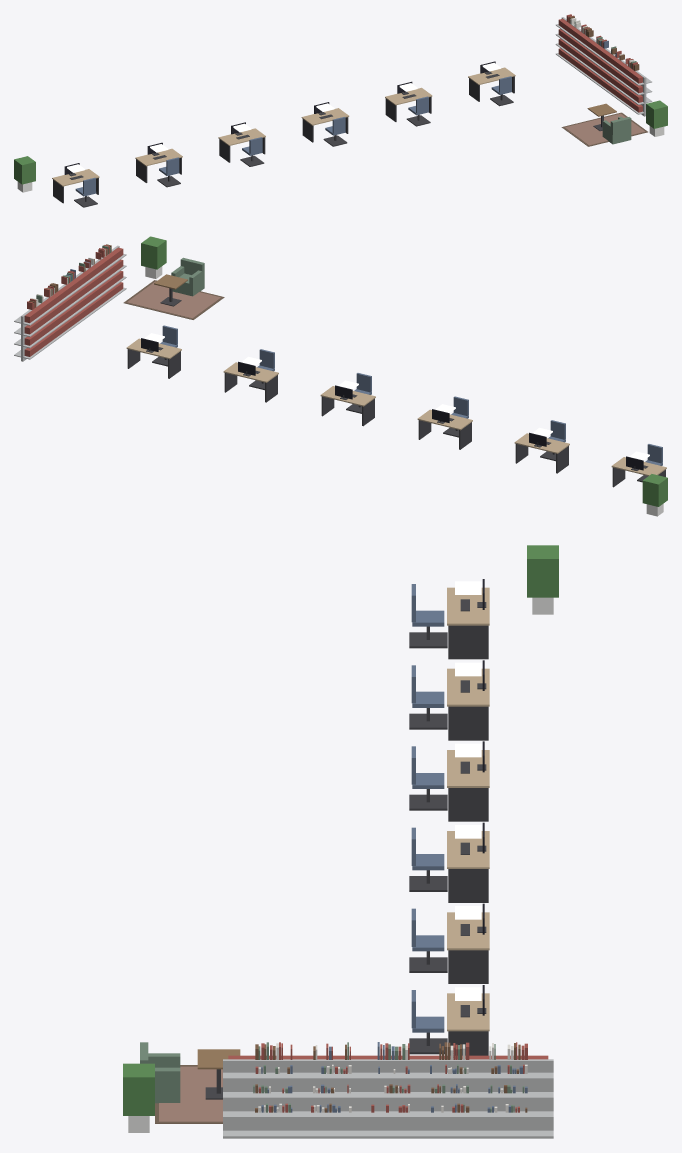
File: fine-s1.glb
The picture shows the model from 3 angles, top to bottom: view 1: azimuth 30°, elevation 25°; view 2: azimuth 150°, elevation 25°; view 3: azimuth 270°, elevation 25°; orthographic projection. The views are drawn at different scales.
Visible parts, largest first — view 1: soft-s1, shelving.005, shelving.001, shelving.003, office-desk-real.003, office-desk-real.002, office-desk-real.001, office-desk-real.004, office-desk-real.005, office-desk-real.000, sofa.000, plant-medium.000 (+10 smaller); view 2: soft-s1, shelving.001, shelving.005, shelving.002, office-desk-real.001, office-desk-real.002, office-desk-real.004, office-desk-real.005, office-desk-real.003, shelving.003, shelving.004, sofa.000 (+9 smaller); view 3: soft-s1, shelving.001, shelving.003, shelving.004, shelving.005, shelving.002, office-desk-real.000, office-desk-real.001, office-desk-real.004, office-desk-real.002, office-desk-real.003, office-desk-real.005 (+10 smaller).
Boxes of the visible parts, bbox=[...] form: soft-s1: bbox=[561, 14, 647, 146]; shelving.005: bbox=[614, 60, 652, 116]; shelving.001: bbox=[555, 17, 583, 71]; shelving.003: bbox=[585, 38, 615, 92]; office-desk-real.003: bbox=[301, 102, 349, 142]; office-desk-real.002: bbox=[218, 122, 265, 162]; office-desk-real.001: bbox=[135, 142, 182, 182]; office-desk-real.004: bbox=[385, 81, 432, 121]; office-desk-real.005: bbox=[468, 61, 515, 101]; office-desk-real.000: bbox=[52, 163, 99, 203]; sofa.000: bbox=[602, 116, 631, 144]; plant-medium.000: bbox=[646, 100, 667, 136]; soft-s1: bbox=[27, 244, 224, 319]; shelving.001: bbox=[14, 297, 58, 361]; shelving.005: bbox=[91, 245, 126, 308]; shelving.002: bbox=[41, 284, 75, 345]; office-desk-real.001: bbox=[514, 432, 569, 473]; office-desk-real.002: bbox=[417, 409, 472, 449]; office-desk-real.004: bbox=[223, 361, 278, 402]; office-desk-real.005: bbox=[126, 338, 181, 378]; office-desk-real.003: bbox=[320, 385, 375, 426]; shelving.003: bbox=[57, 272, 92, 326]; shelving.004: bbox=[75, 258, 109, 321]; sofa.000: bbox=[171, 257, 204, 296]; soft-s1: bbox=[155, 1042, 527, 1123]; shelving.001: bbox=[457, 1055, 553, 1138]; shelving.003: bbox=[340, 1055, 436, 1138]; shelving.004: bbox=[281, 1055, 377, 1138]; shelving.005: bbox=[223, 1055, 318, 1138]; shelving.002: bbox=[399, 1055, 494, 1138]; office-desk-real.000: bbox=[447, 579, 489, 659]; office-desk-real.001: bbox=[447, 660, 489, 740]; office-desk-real.004: bbox=[447, 903, 489, 983]; office-desk-real.002: bbox=[447, 741, 489, 821]; office-desk-real.003: bbox=[447, 822, 489, 902]; office-desk-real.005: bbox=[447, 985, 489, 1055].
Bounding box in the file's own units: 23.98 × 1.93 × 8.18.
